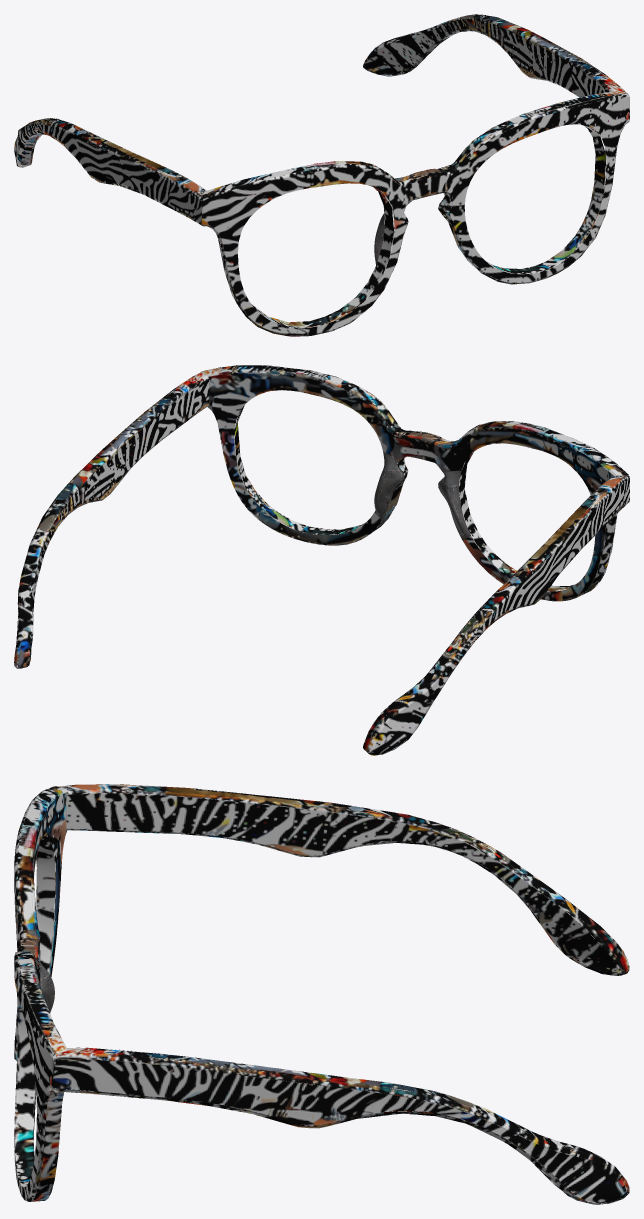
File: glasses (2).glb
3 renders of one model, top to bottom at view 1: azimuth 30°, elevation 25°; view 2: azimuth 150°, elevation 25°; view 3: azimuth 270°, elevation 25°, orthographic. The views are drawn at different scales.
Visible parts, largest first — view 1: Object_4; view 2: Object_4; view 3: Object_4.
Boxes of the visible parts, x1,y1,x2,y2 form: Object_4: [14, 14, 629, 336]; Object_4: [14, 365, 629, 755]; Object_4: [14, 784, 629, 1204].
Size of the model in its own units: 0.7115 by 0.2547 by 0.6589.
1 material, 1 textured.
